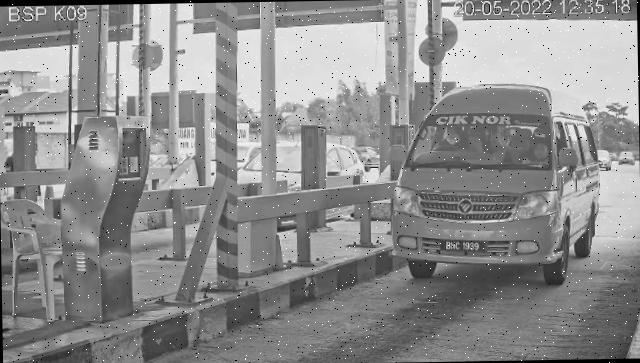License_Plate: (440, 238, 488, 255)
van: (390, 83, 602, 290)
